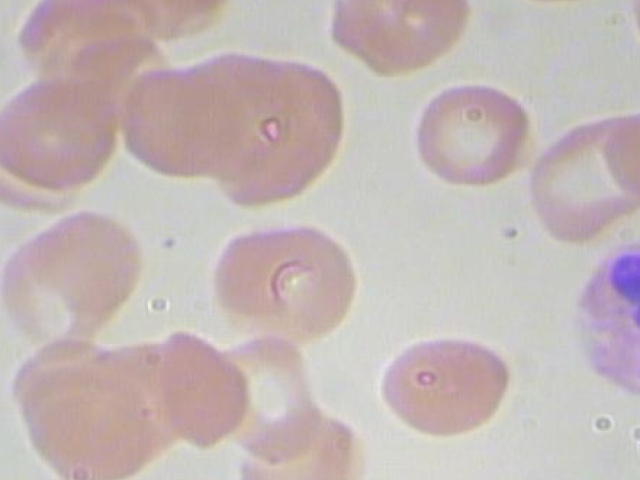Platelets: (0, 39, 3, 93)
RBC: (210, 222, 360, 353), (116, 57, 265, 181), (514, 112, 640, 247), (0, 63, 127, 194), (13, 202, 153, 317), (395, 79, 542, 187), (371, 331, 519, 438), (23, 373, 163, 480), (319, 0, 479, 84), (598, 95, 640, 203), (145, 0, 241, 16), (488, 0, 639, 9), (633, 0, 640, 76)
WBC: (541, 227, 640, 410)
